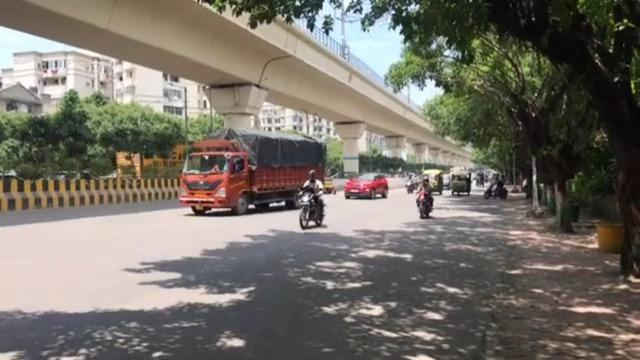Auto: (447, 170, 473, 196)
Bike: (296, 170, 328, 232), (481, 174, 512, 199), (415, 175, 433, 218), (402, 169, 418, 193)
Truck: (177, 126, 327, 215)
